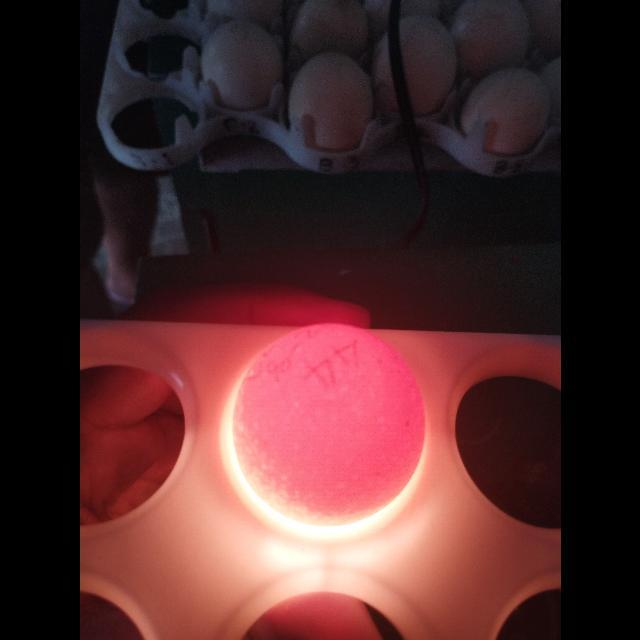Infertile: (224, 318, 428, 534)
